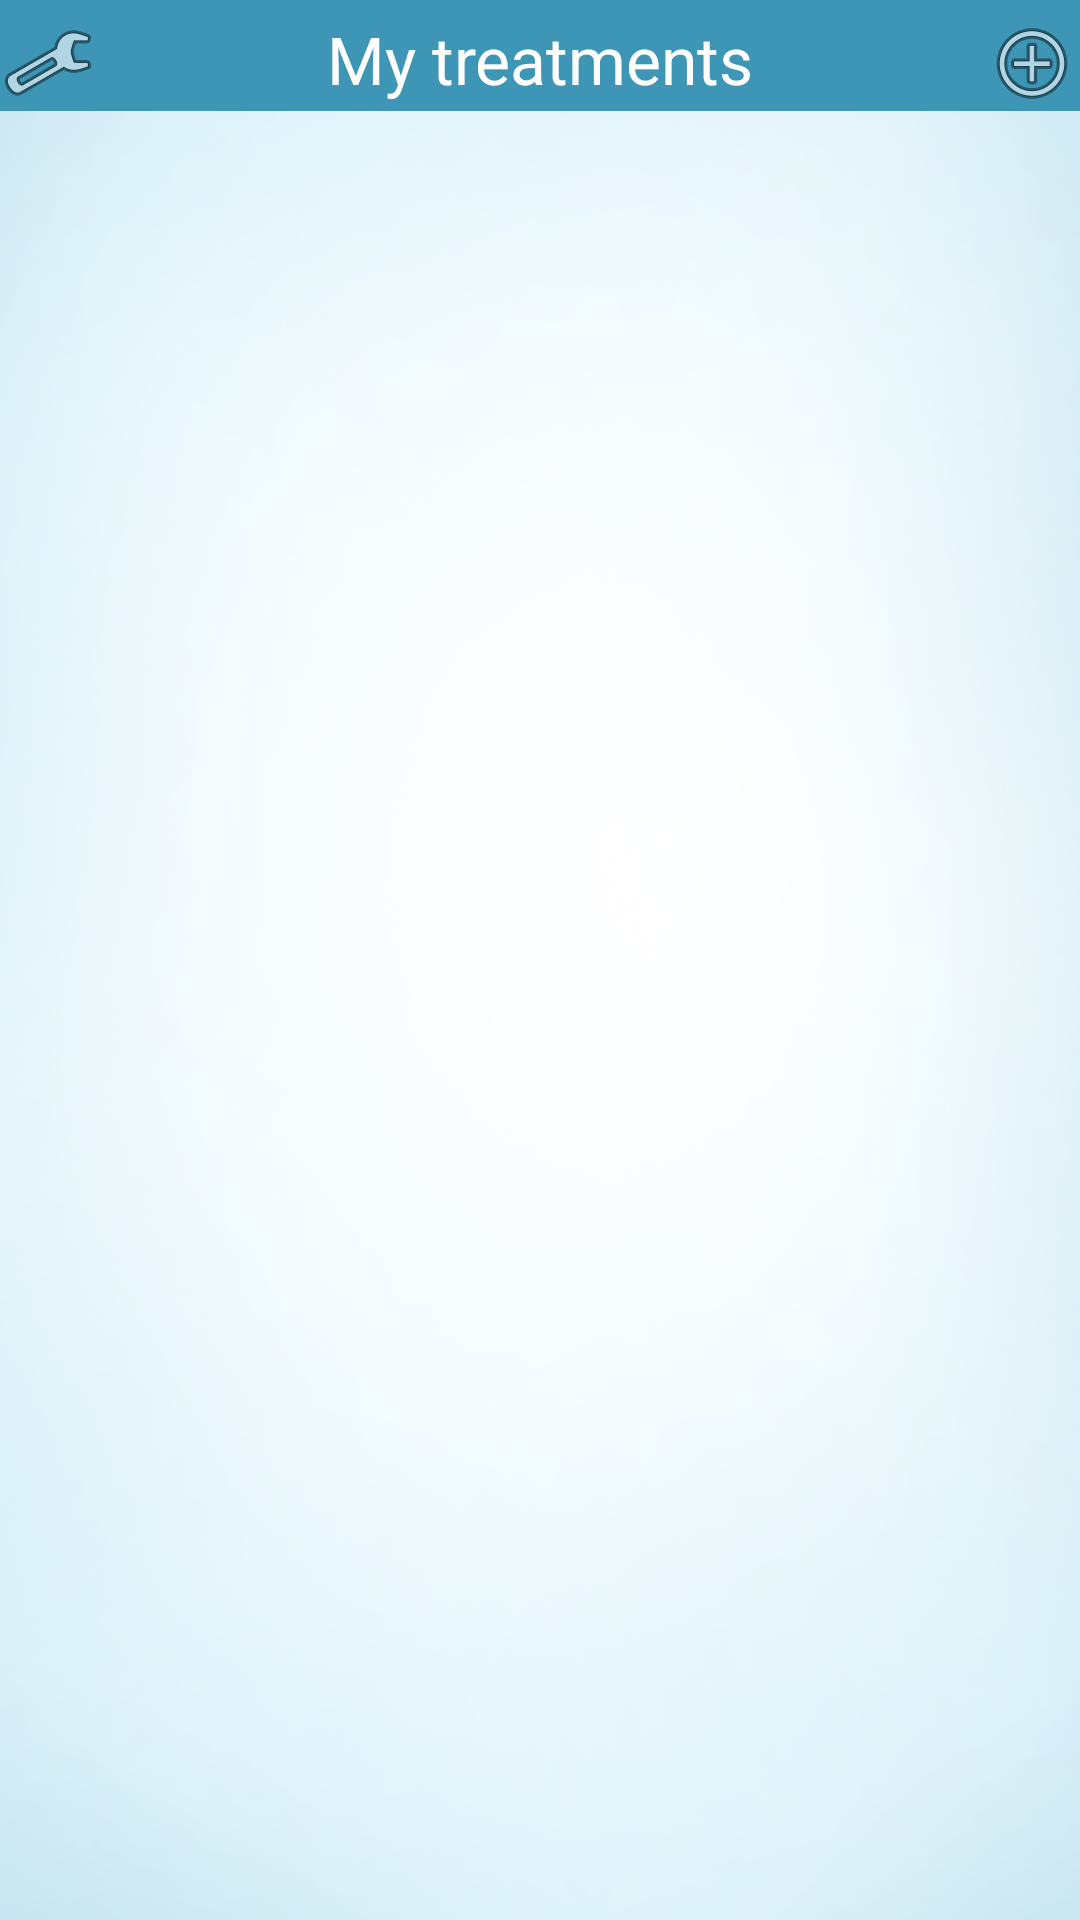

Named icons in this screenshot (1080 x 1920) and their centers, point (x, y):
add: point (1032, 63)
manage: point (48, 63)
